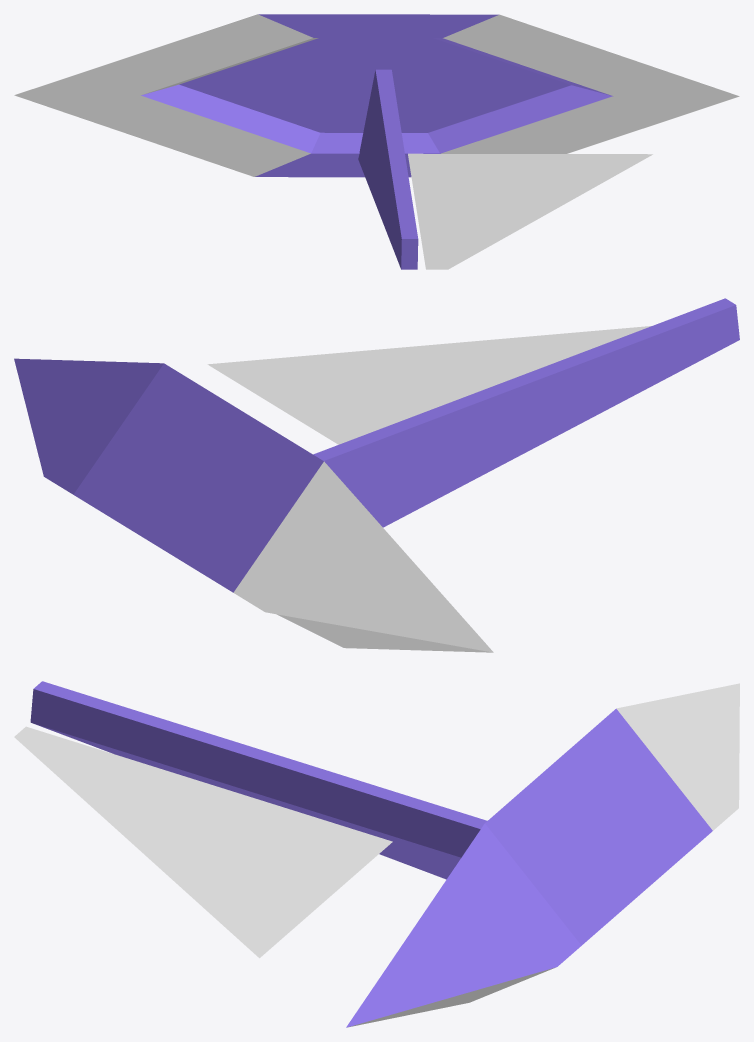
File: boat1.fbx
The picture shows the model from 3 angles, top to bottom: view 1: azimuth 30°, elevation 25°; view 2: azimuth 150°, elevation 25°; view 3: azimuth 270°, elevation 25°; orthographic projection. The views are drawn at different scales.
Visible parts, largest first — view 1: ship.001; view 2: ship.001; view 3: ship.001.
Boxes of the visible parts, x1,y1,x2,y2 form: ship.001: (14, 14, 739, 269); ship.001: (14, 298, 739, 652); ship.001: (14, 681, 739, 1027).
Size of the model in its own units: 73.48 by 20.21 by 69.37.
